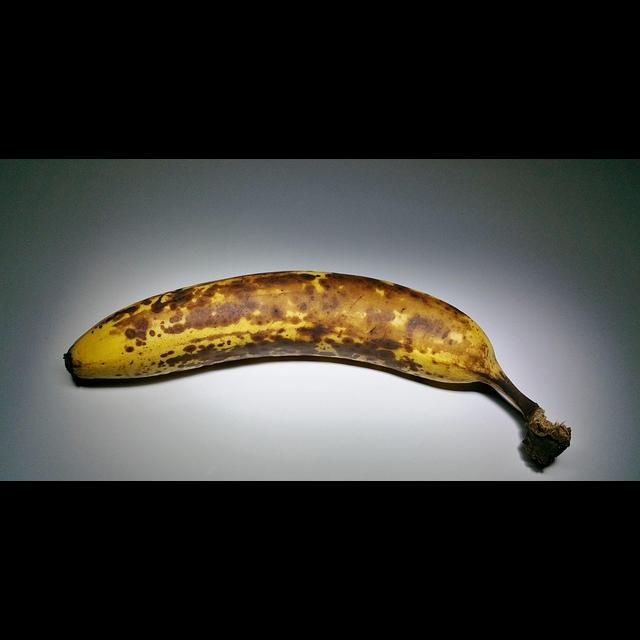apple: (56, 238, 515, 402)
